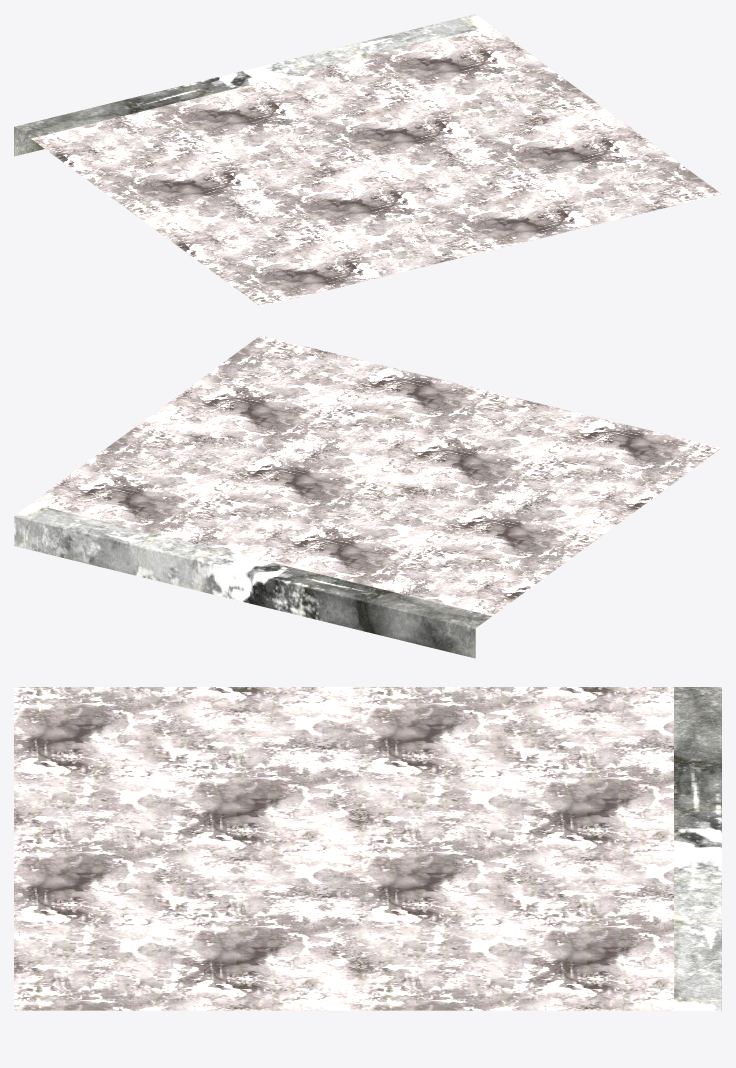
The model's file is SM_pavement_B_01_02.fbx.
3 renders of one model, top to bottom at view 1: azimuth 30°, elevation 25°; view 2: azimuth 150°, elevation 25°; view 3: azimuth 270°, elevation 25°, orthographic. The views are drawn at different scales.
Visible parts, largest first — view 1: SM_pavement_B_01_02_LOD0; view 2: SM_pavement_B_01_02_LOD0; view 3: SM_pavement_B_01_02_LOD0.
Boxes of the visible parts, x1,y1,x2,y2 form: SM_pavement_B_01_02_LOD0: [14, 14, 721, 306]; SM_pavement_B_01_02_LOD0: [14, 335, 721, 658]; SM_pavement_B_01_02_LOD0: [14, 687, 721, 1011].
Bounding box in the file's own units: 400 × 370 × 25.
2 materials, 2 textured.
